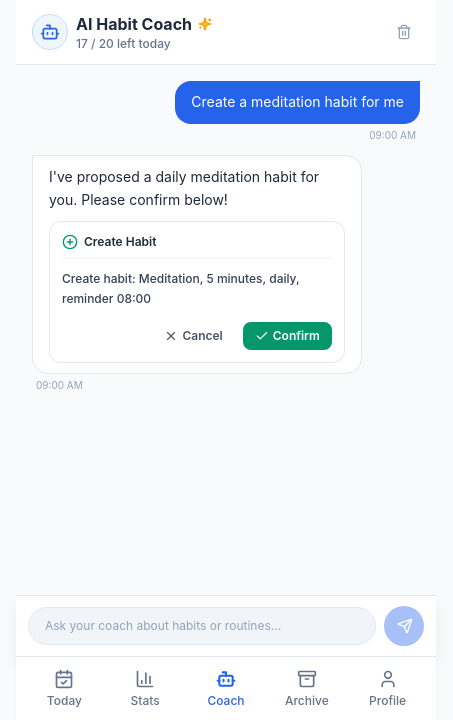
CoachPage (Step 10.4) › Action Cards (Step 10.5) › cancels action and updates status to cancelled
Click the button "Cancel". click: (194, 336)
box: [152,322,235,350]
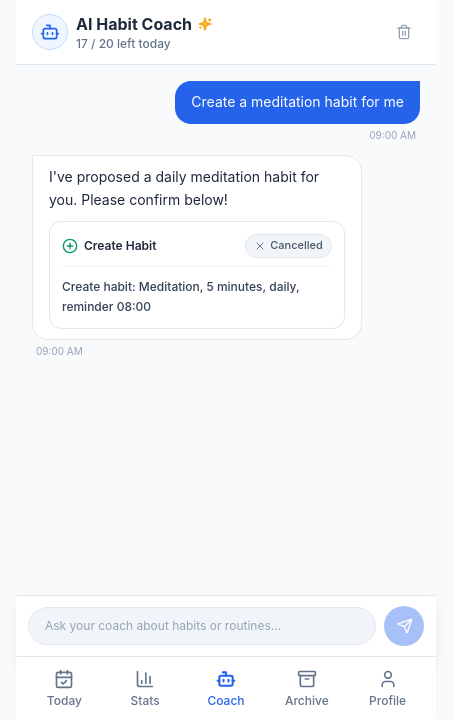
Expected: the text "Cancelled" is shown, [270,237,323,255]
